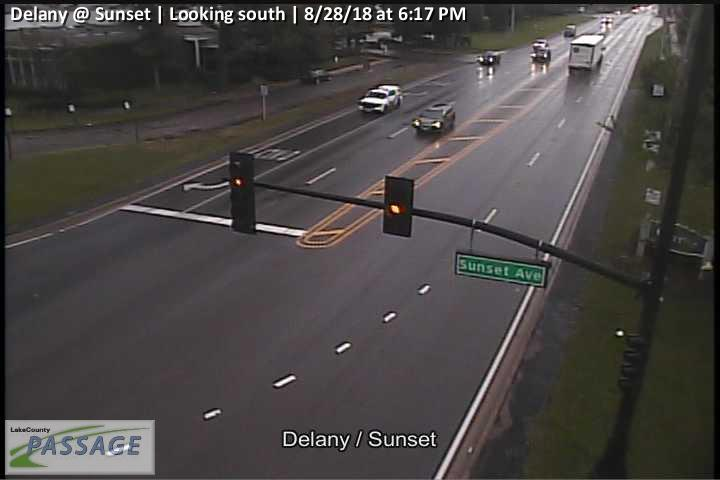SUV: (413, 103, 456, 136), (357, 83, 403, 113)
Sedan: (532, 48, 552, 63), (478, 51, 501, 64), (533, 39, 550, 50)
Truck: (569, 32, 606, 73)
